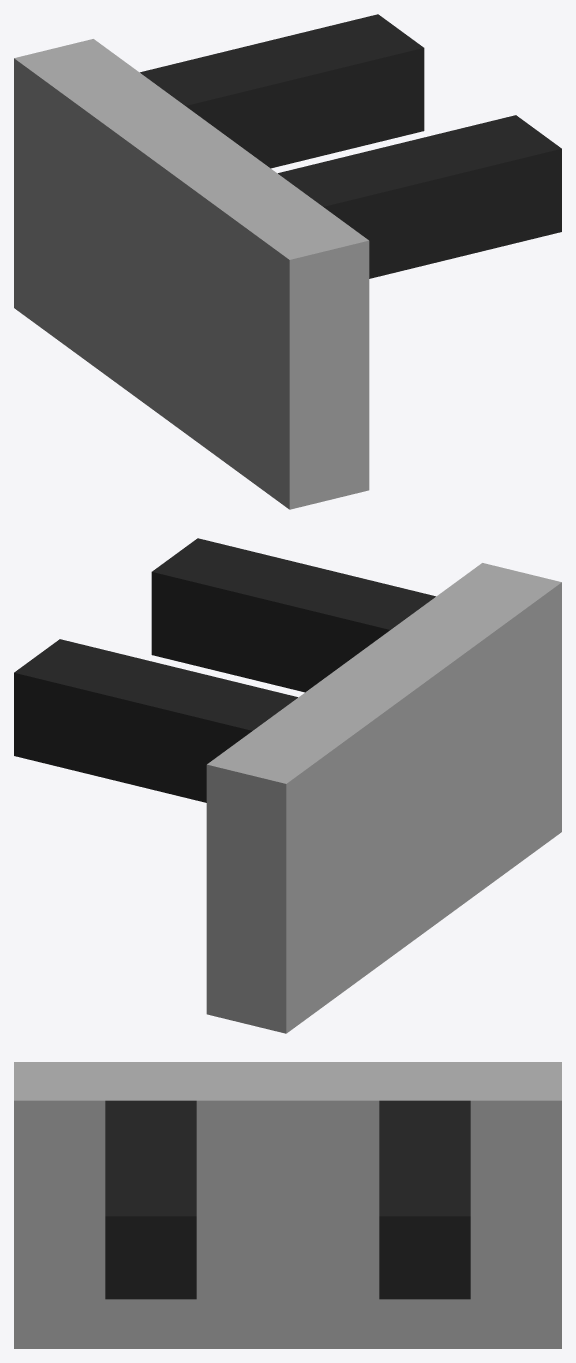
File: Body-42-InterstellarRunner_AirShaft_R.obj
The picture shows the model from 3 angles, top to bottom: view 1: azimuth 30°, elevation 25°; view 2: azimuth 150°, elevation 25°; view 3: azimuth 270°, elevation 25°; orthographic projection.
Parts seen in each view (by area): view 1: InterstellarRunner_AirShaft_R; view 2: InterstellarRunner_AirShaft_R; view 3: InterstellarRunner_AirShaft_R.
Part boxes in pixels (left/top/right/bottom): InterstellarRunner_AirShaft_R: left=14, top=14, right=561, bottom=509; InterstellarRunner_AirShaft_R: left=14, top=538, right=561, bottom=1033; InterstellarRunner_AirShaft_R: left=14, top=1062, right=561, bottom=1348.
Size of the model in its own units: 0.4 by 0.3 by 0.6.
1 material, 1 textured.
